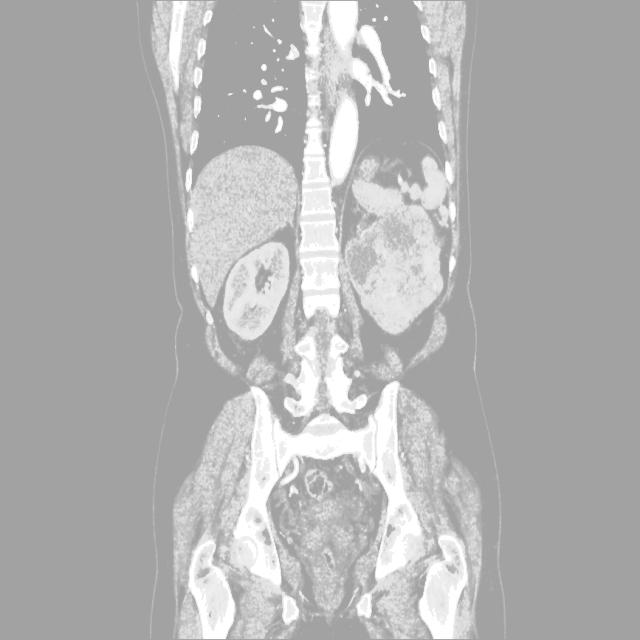TUMOR: (131, 177, 502, 360)
